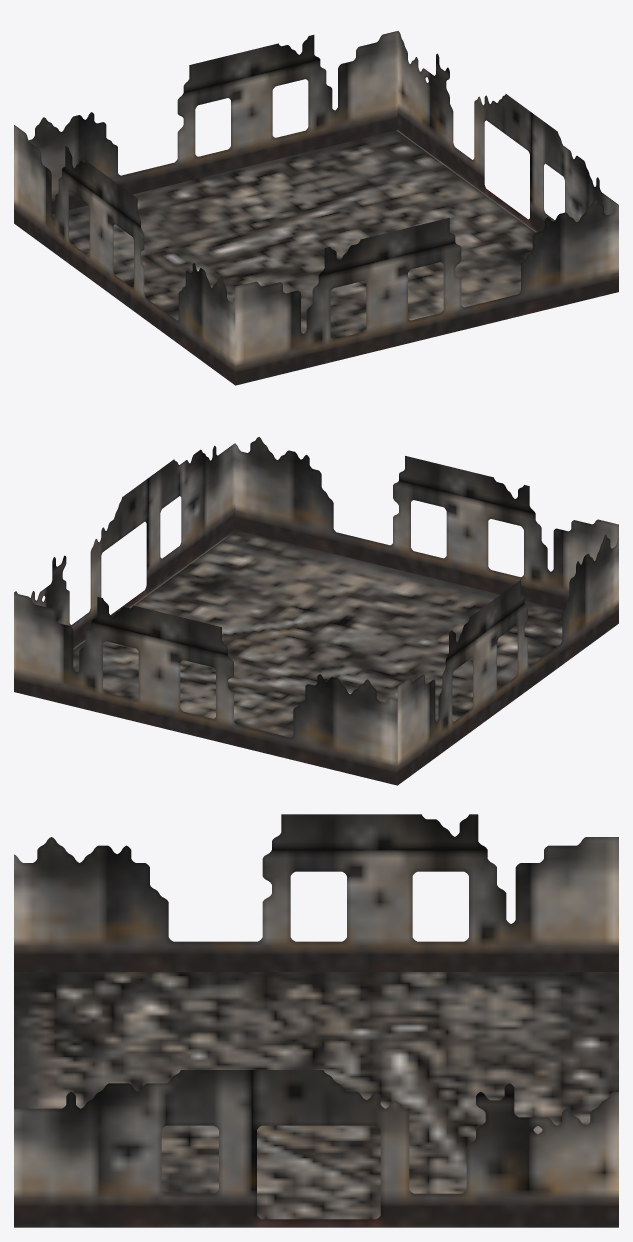
Rendered from city8storya_dam.glb.
The picture shows the model from 3 angles, top to bottom: view 1: azimuth 30°, elevation 25°; view 2: azimuth 150°, elevation 25°; view 3: azimuth 270°, elevation 25°; orthographic projection. The views are drawn at different scales.
Visible parts, largest first — view 1: City2StoryA; view 2: City2StoryA; view 3: City2StoryA.
Boxes of the visible parts, x1,y1,x2,y2 form: City2StoryA: (14,31,618,385); City2StoryA: (14,437,618,785); City2StoryA: (14,814,618,1227).
Bounding box in the file's own units: 17.76 × 5.11 × 17.76.
Materials: 1 (1 with a texture image).
